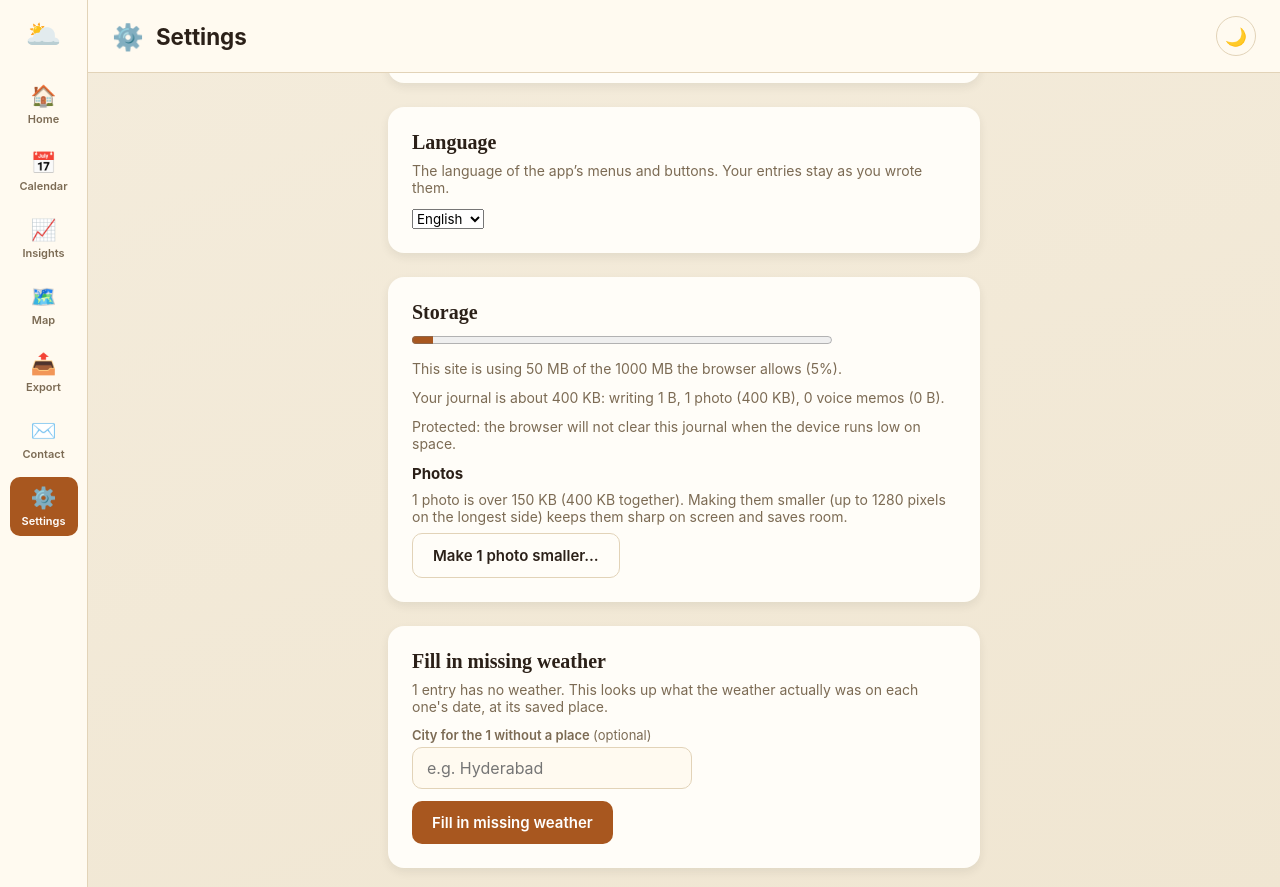
Storage settings › explains when the browser could not shrink anything
The image size is (1280, 887).
(page scrolled)
What coordinates should you click on to do the following:
click the button "Make 1 photo smaller…"
I would click on:
 (516, 556)
Its box is [412, 533, 620, 578].
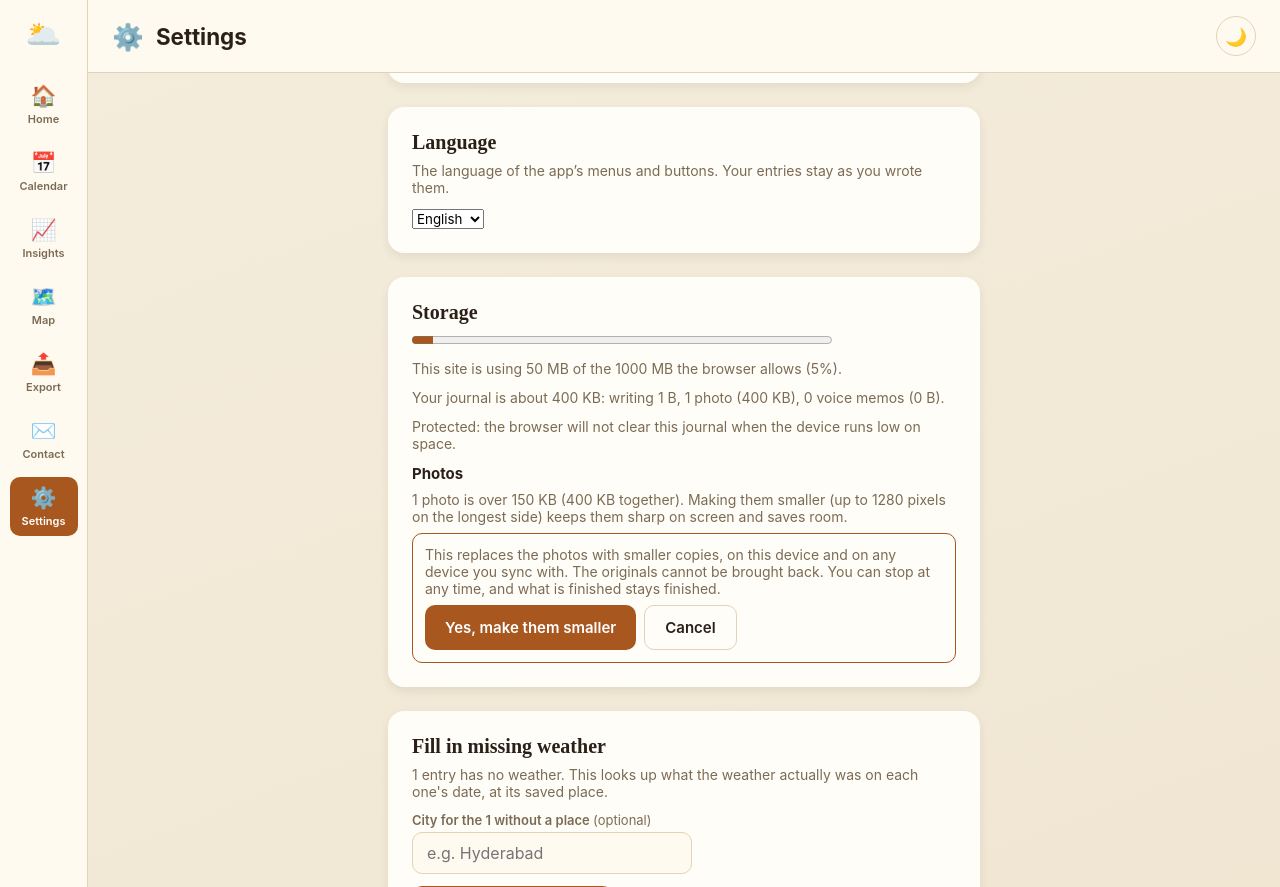
What coordinates should you click on to do the following:
click the button "Yes, make them smaller"
I would click on:
 (531, 628)
Its box is [425, 605, 636, 650].
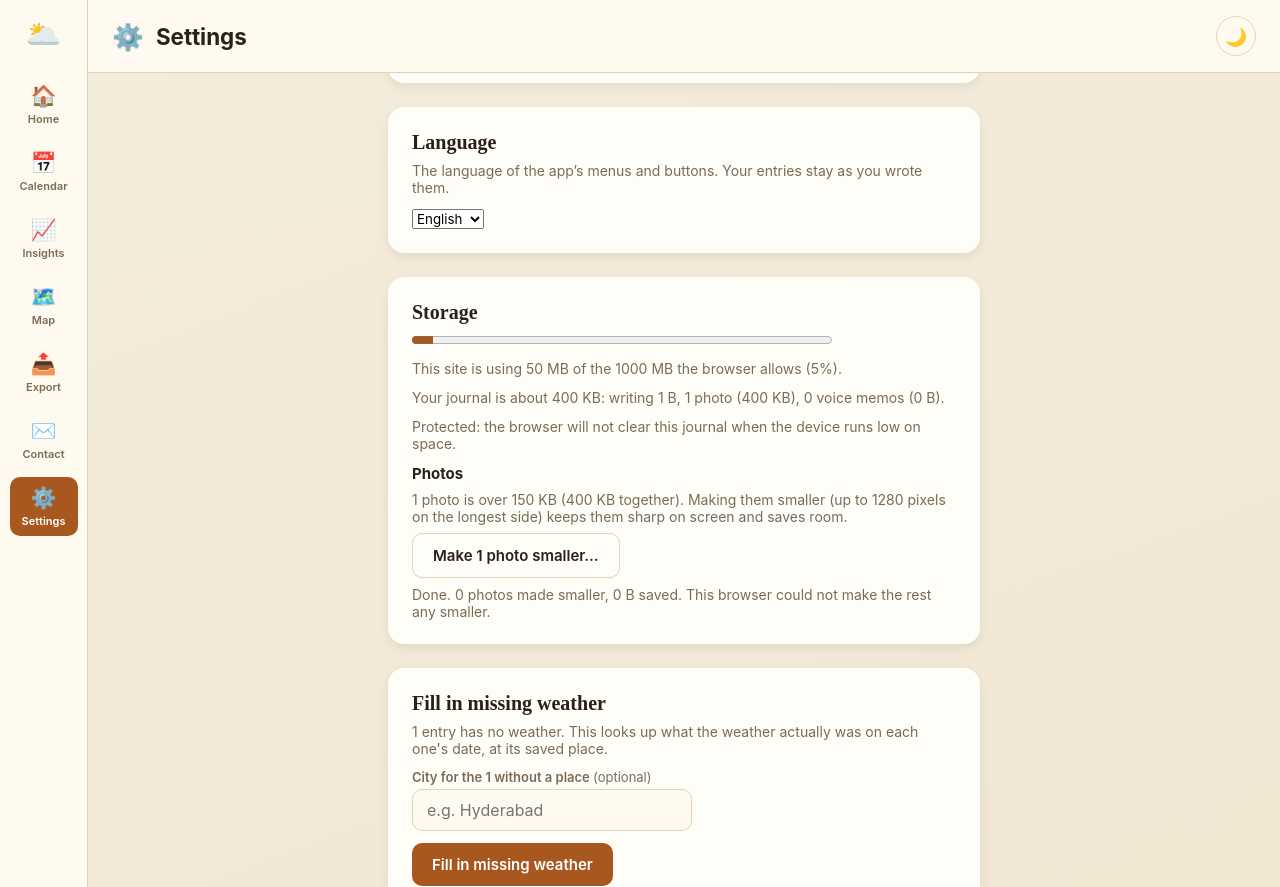
Now the text "could not make the rest any smaller" is shown, box [412, 586, 931, 620]
